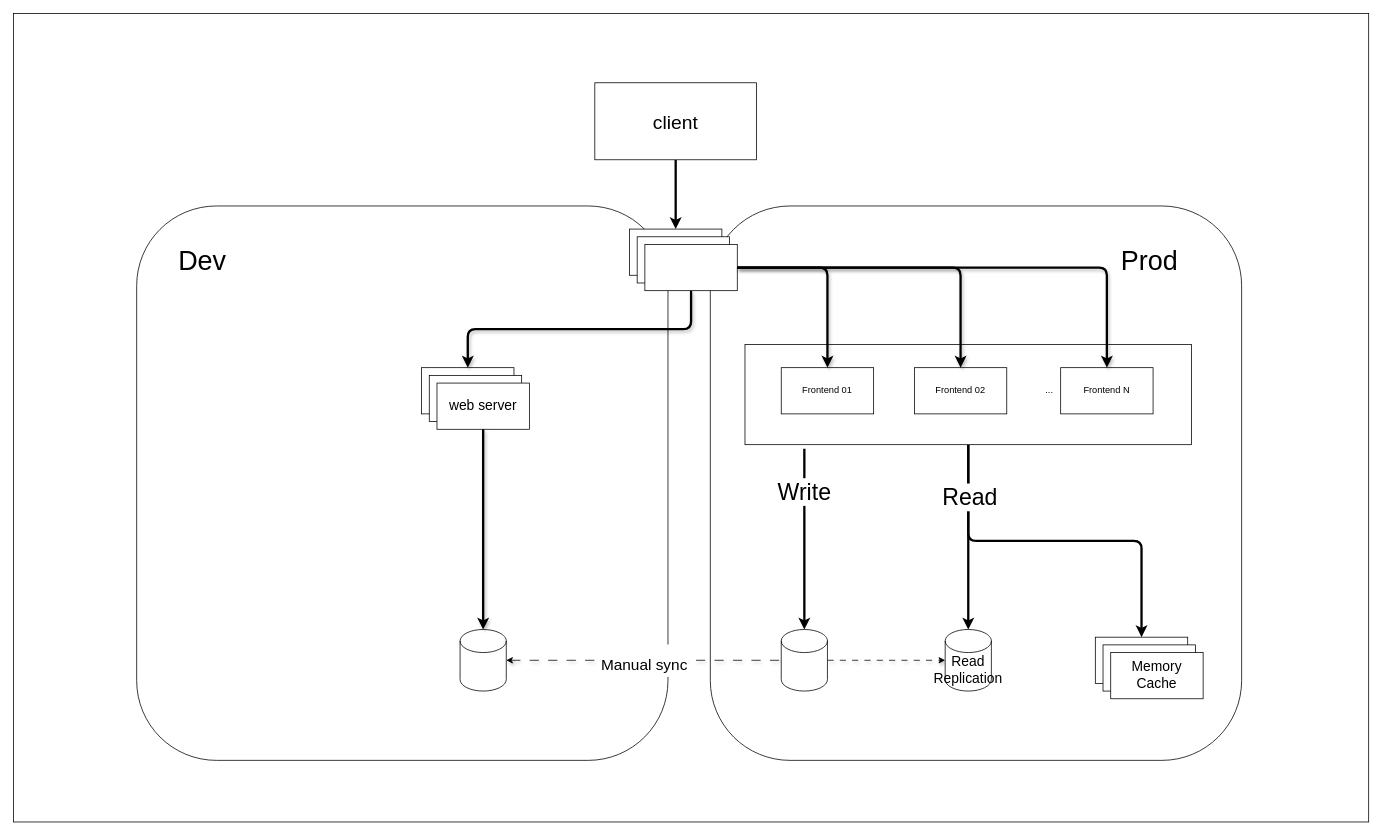
Image size: 1382x835. Some labels were removed from this diagram. The centre of each missing label's shape, as x and y in pixels:
"Load Balancer" goes at point (690, 267).
"W/R" goes at point (482, 660).
"Write Master" goes at point (803, 660).
